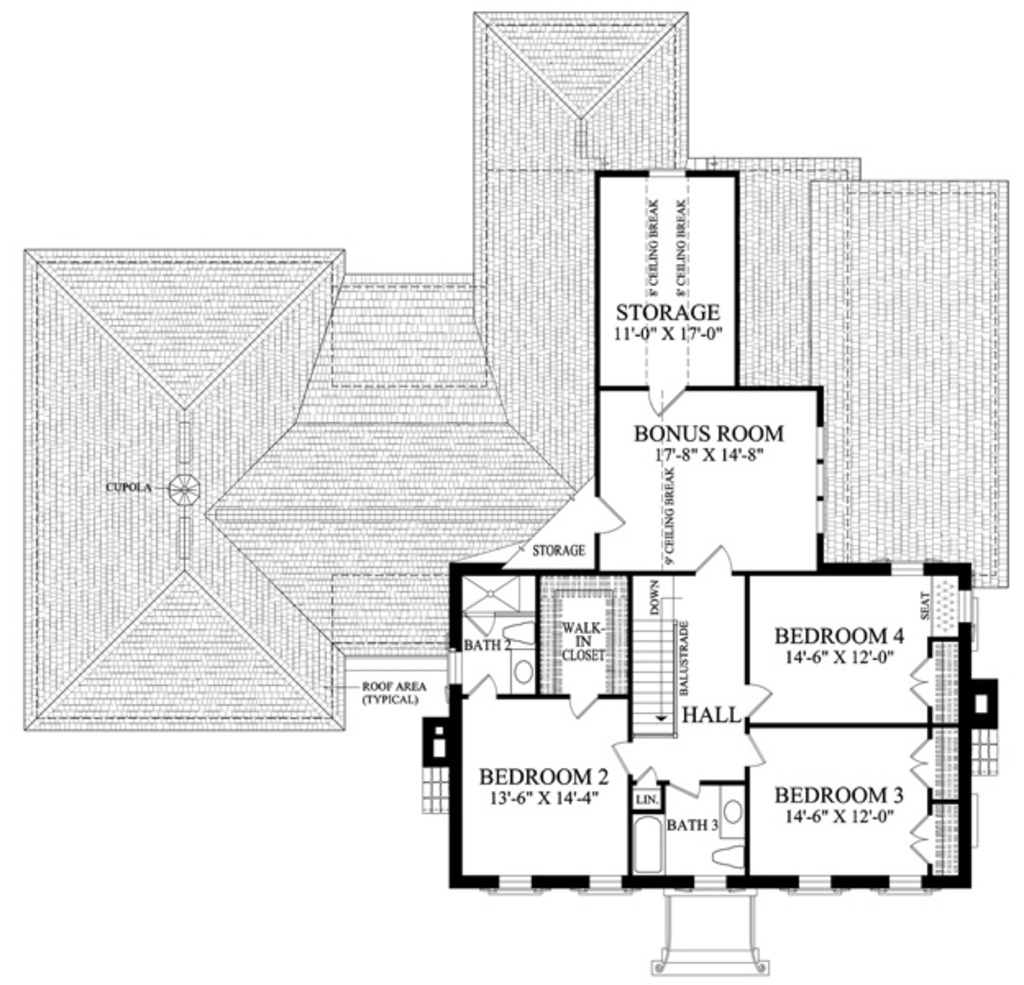door: (688, 542, 737, 577), (908, 808, 938, 864), (907, 656, 938, 707), (594, 492, 627, 537), (907, 736, 935, 788), (647, 385, 692, 417), (743, 676, 774, 719), (566, 686, 604, 720), (742, 728, 770, 774), (463, 608, 497, 642), (609, 736, 634, 774), (466, 671, 501, 698)
large_sink: (498, 616, 537, 648), (708, 842, 746, 874)
small_sink: (715, 790, 751, 844), (505, 651, 535, 701)
stairs: (646, 890, 772, 981), (623, 613, 682, 739)
tub: (631, 807, 670, 871)
window: (811, 419, 828, 537), (579, 870, 635, 900), (484, 872, 547, 897), (784, 875, 843, 896), (881, 558, 929, 582), (875, 875, 935, 894), (957, 583, 975, 627)
